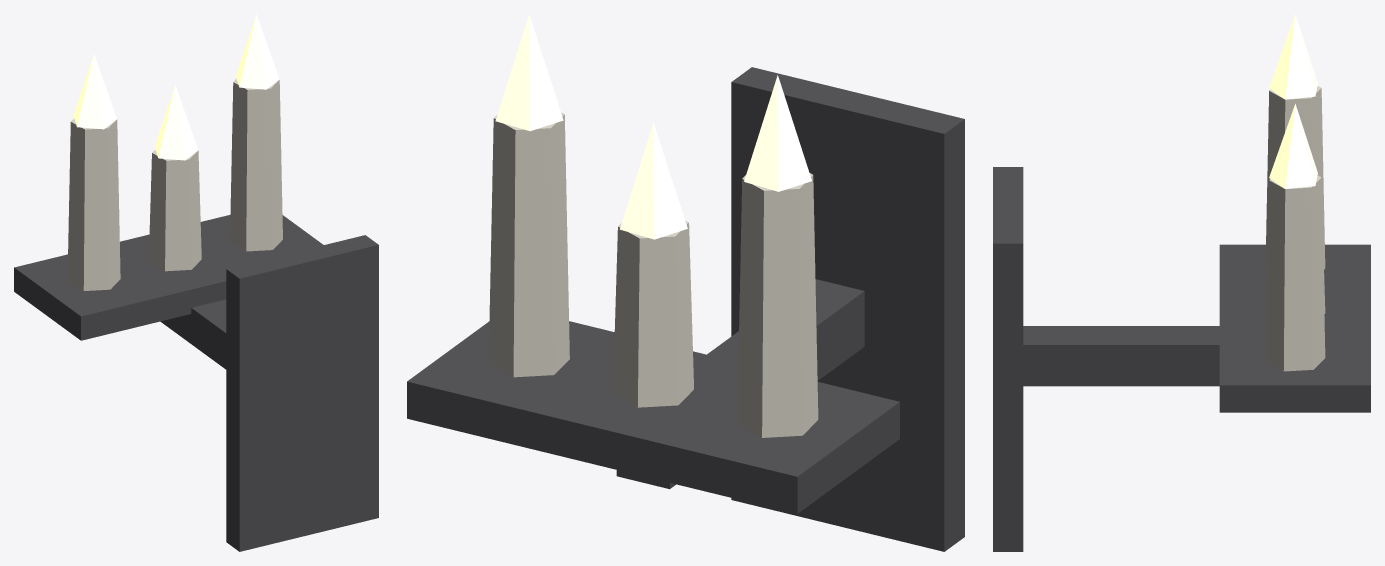
File: crypt_sconce.glb
The picture shows the model from 3 angles, left to right: view 1: azimuth 30°, elevation 25°; view 2: azimuth 150°, elevation 25°; view 3: azimuth 270°, elevation 25°; orthographic projection. The views are drawn at different scales.
Parts seen in each view (by area): view 1: crypt_sconce; view 2: crypt_sconce; view 3: crypt_sconce.
Boxes of the visible parts, x1,y1,x2,y2 form: crypt_sconce: (14, 14, 378, 551); crypt_sconce: (407, 14, 964, 551); crypt_sconce: (993, 14, 1370, 551).
Bounding box in the file's own units: 0.44 × 0.664 × 0.5.
